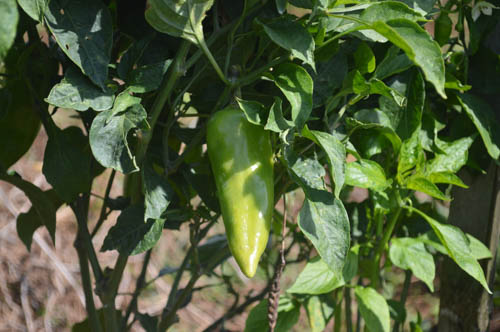ChiliPepper: (210, 111, 276, 277)
